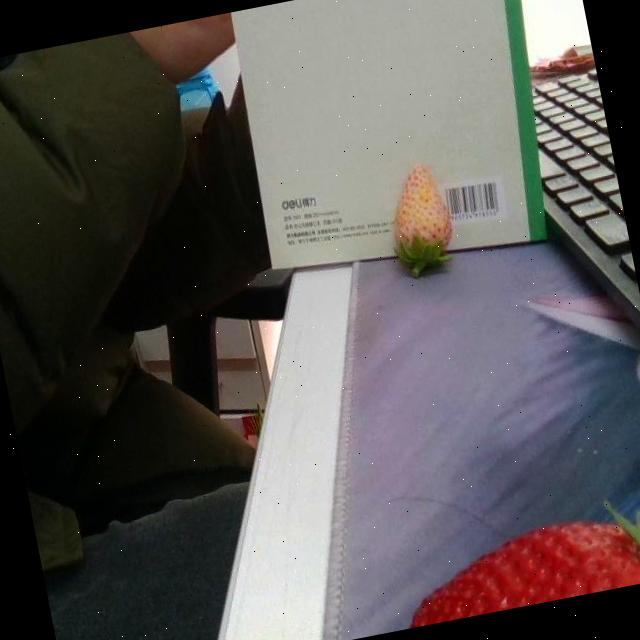strawberry: (388, 496, 640, 629), (383, 160, 459, 268)
